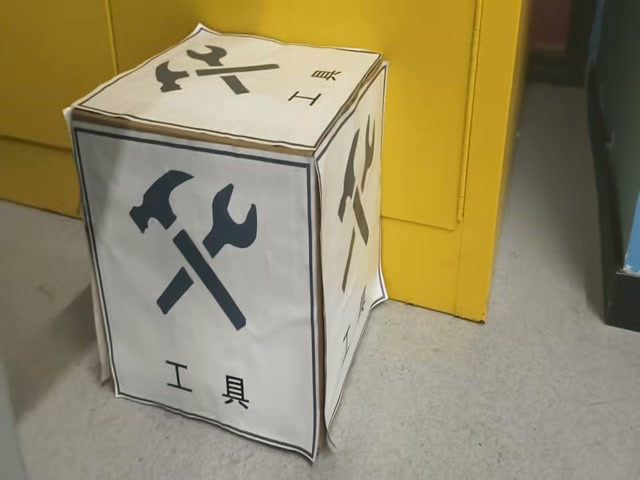Cube_tool: (72, 26, 384, 153)
